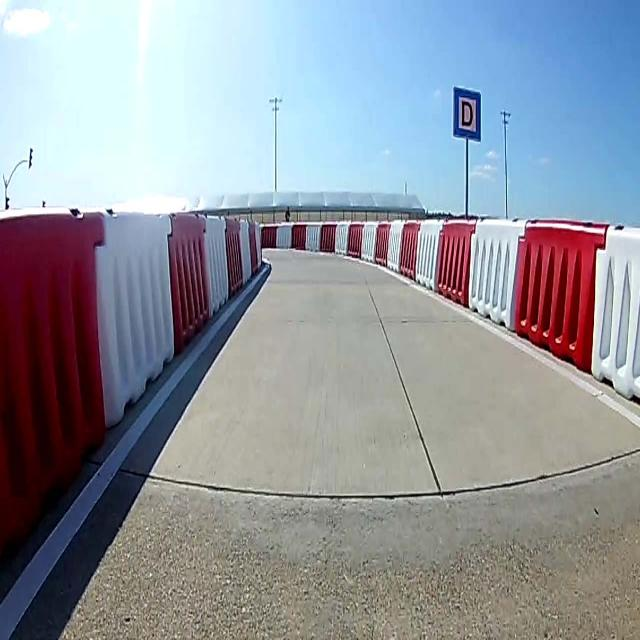durak: (453, 86, 481, 142)
